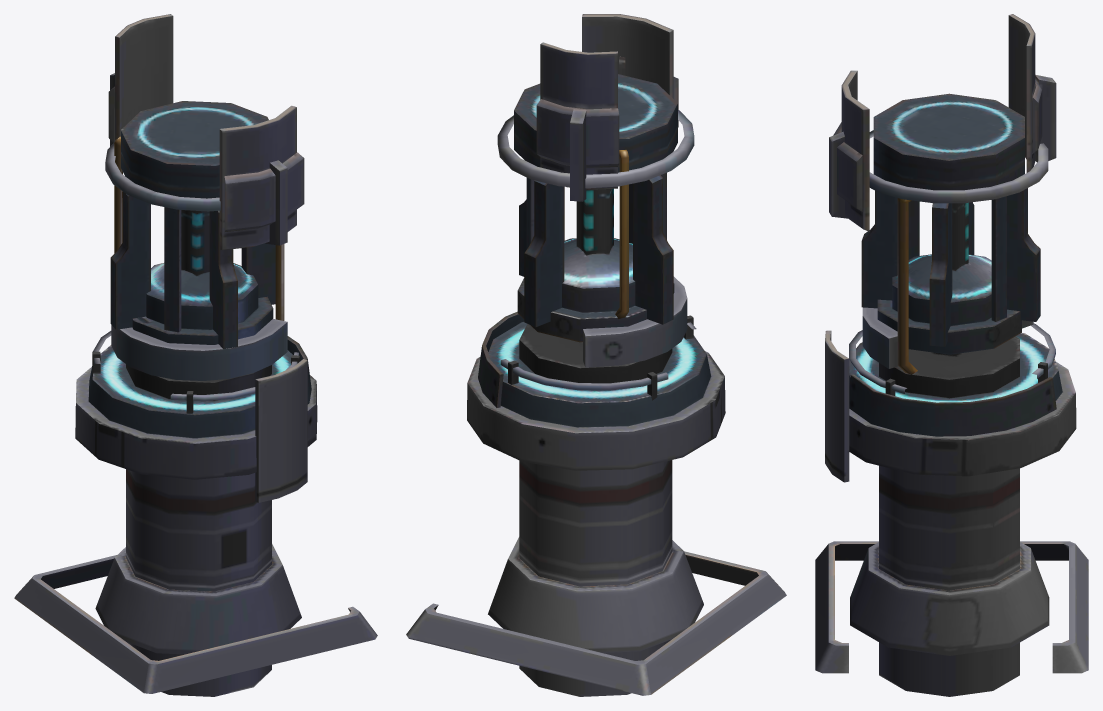
Rendered from sensor.glb.
3 views of the same model, side by side, from view 1: azimuth 30°, elevation 25°; view 2: azimuth 150°, elevation 25°; view 3: azimuth 270°, elevation 25° (orthographic). The views are drawn at different scales.
Visible parts, largest first — view 1: S_wilds_tower_02, S_wilds_tower_05, S_wilds_tower_011, S_wilds_tower_017, S_wilds_tower_04, S_wilds_tower_07, S_wilds_tower_010, S_wilds_tower_016, S_wilds_tower_031, S_wilds_tower_08, S_wilds_tower_018, S_wilds_tower_00 (+11 smaller); view 2: S_wilds_tower_02, S_wilds_tower_05, S_wilds_tower_011, S_wilds_tower_04, S_wilds_tower_07, S_wilds_tower_017, S_wilds_tower_031, S_wilds_tower_018, S_wilds_tower_025, S_wilds_tower_08, S_wilds_tower_016, S_wilds_tower_032 (+9 smaller); view 3: S_wilds_tower_02, S_wilds_tower_011, S_wilds_tower_017, S_wilds_tower_04, S_wilds_tower_05, S_wilds_tower_03, S_wilds_tower_012, S_wilds_tower_025, S_wilds_tower_028, S_wilds_tower_014, S_wilds_tower_010, S_wilds_tower_027 (+14 smaller).
Boxes of the visible parts, <box> form: S_wilds_tower_02: <box>126,364,271,696</box>; S_wilds_tower_05: <box>14,555,377,693</box>; S_wilds_tower_011: <box>95,544,301,654</box>; S_wilds_tower_017: <box>121,101,268,198</box>; S_wilds_tower_04: <box>75,367,317,479</box>; S_wilds_tower_07: <box>88,345,292,438</box>; S_wilds_tower_010: <box>255,359,307,502</box>; S_wilds_tower_016: <box>111,319,287,380</box>; S_wilds_tower_031: <box>115,14,173,140</box>; S_wilds_tower_08: <box>219,105,296,250</box>; S_wilds_tower_018: <box>110,192,150,329</box>; S_wilds_tower_00: <box>224,152,304,231</box>; S_wilds_tower_02: <box>519,324,672,696</box>; S_wilds_tower_05: <box>406,551,786,695</box>; S_wilds_tower_011: <box>488,537,703,652</box>; S_wilds_tower_04: <box>467,351,725,470</box>; S_wilds_tower_07: <box>488,322,711,427</box>; S_wilds_tower_017: <box>514,74,677,172</box>; S_wilds_tower_031: <box>540,42,617,189</box>; S_wilds_tower_018: <box>633,175,673,324</box>; S_wilds_tower_025: <box>524,180,564,327</box>; S_wilds_tower_08: <box>582,14,673,98</box>; S_wilds_tower_016: <box>583,276,687,367</box>; S_wilds_tower_032: <box>536,99,619,167</box>; S_wilds_tower_02: <box>879,336,1019,696</box>; S_wilds_tower_011: <box>850,542,1049,655</box>; S_wilds_tower_017: <box>873,93,1024,190</box>; S_wilds_tower_04: <box>849,362,1076,476</box>; S_wilds_tower_05: <box>815,541,1088,673</box>; S_wilds_tower_03: <box>849,374,1056,436</box>; S_wilds_tower_012: <box>892,254,991,325</box>; S_wilds_tower_025: <box>1007,188,1040,321</box>; S_wilds_tower_028: <box>861,191,897,308</box>; S_wilds_tower_014: <box>877,299,1021,354</box>; S_wilds_tower_010: <box>825,330,849,482</box>; S_wilds_tower_027: <box>929,203,952,346</box>.
Size of the model in its own units: 0.00593 by 0.015 by 0.00593.
1 material, 1 textured.
